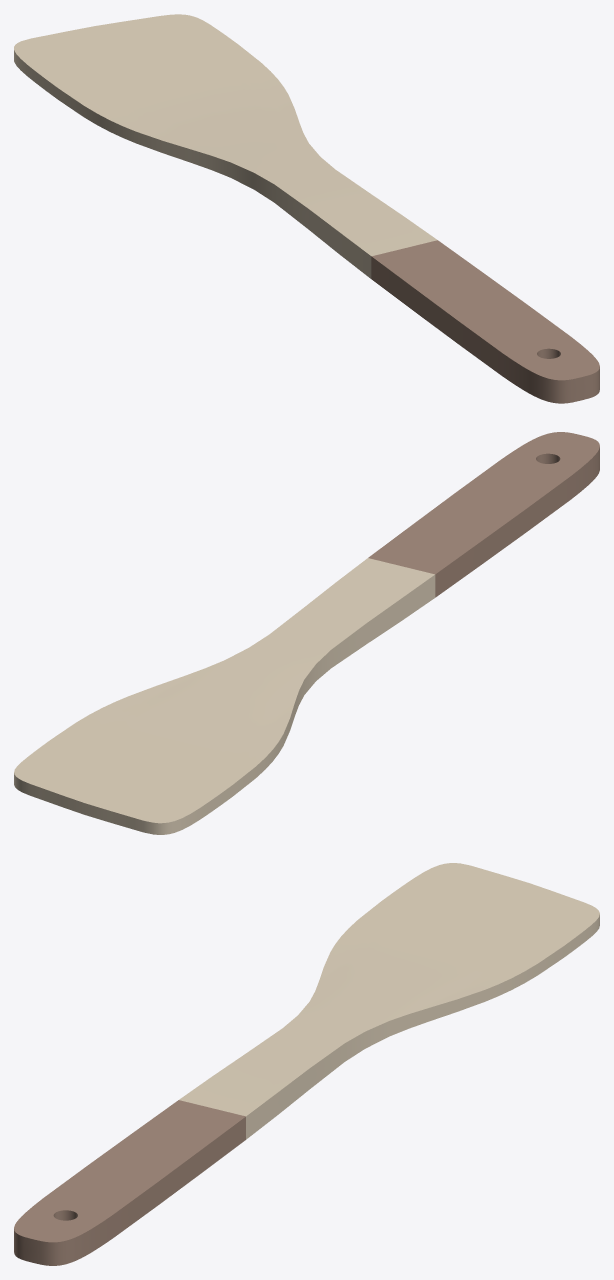
File: 100_木べら.glb
The picture shows the model from 3 angles, top to bottom: view 1: azimuth 30°, elevation 25°; view 2: azimuth 150°, elevation 25°; view 3: azimuth 330°, elevation 25°; orthographic projection.
Parts seen in each view (by area): view 1: Body; view 2: Body; view 3: Body.
Boxes of the visible parts, <box> form: Body: <box>14,14,599,403</box>; Body: <box>14,432,599,834</box>; Body: <box>14,863,599,1265</box>.
Bounding box in the file's own units: 0.0648 × 0.008 × 0.306.
